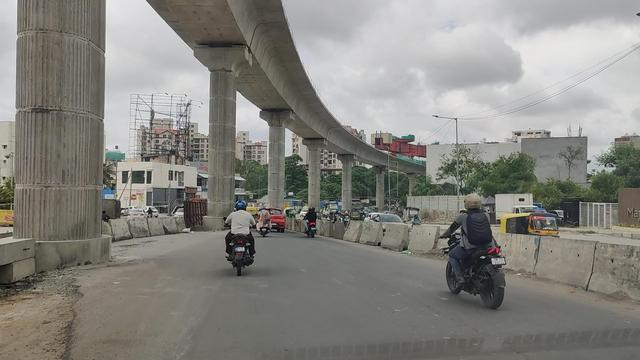LMV: (445, 191, 507, 307), (225, 200, 254, 277), (257, 206, 274, 235), (305, 207, 318, 239)
RoadDamages: (12, 268, 92, 360)
